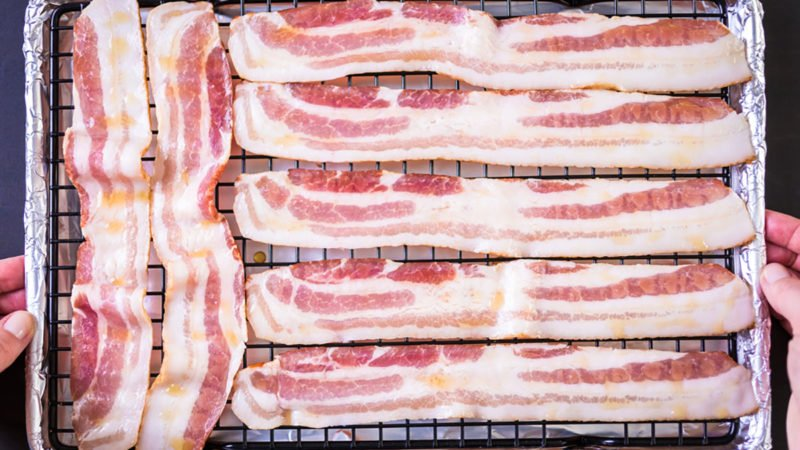bacon: (235, 1, 739, 429), (57, 4, 241, 443)
